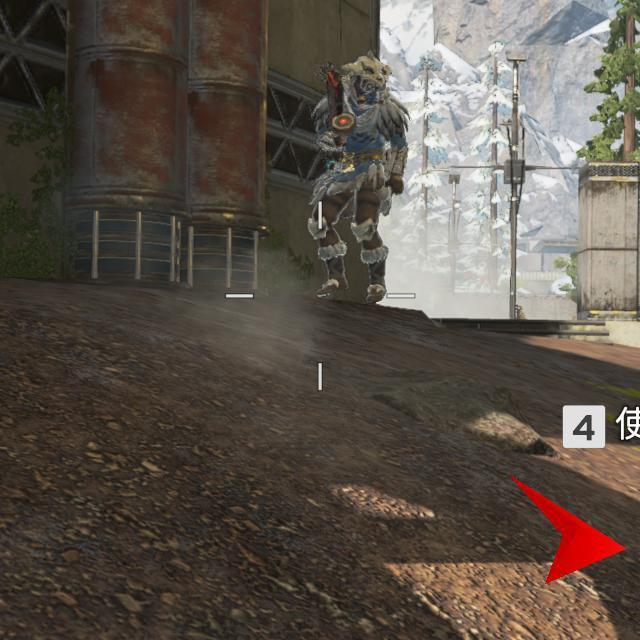avatar: (305, 49, 411, 304)
